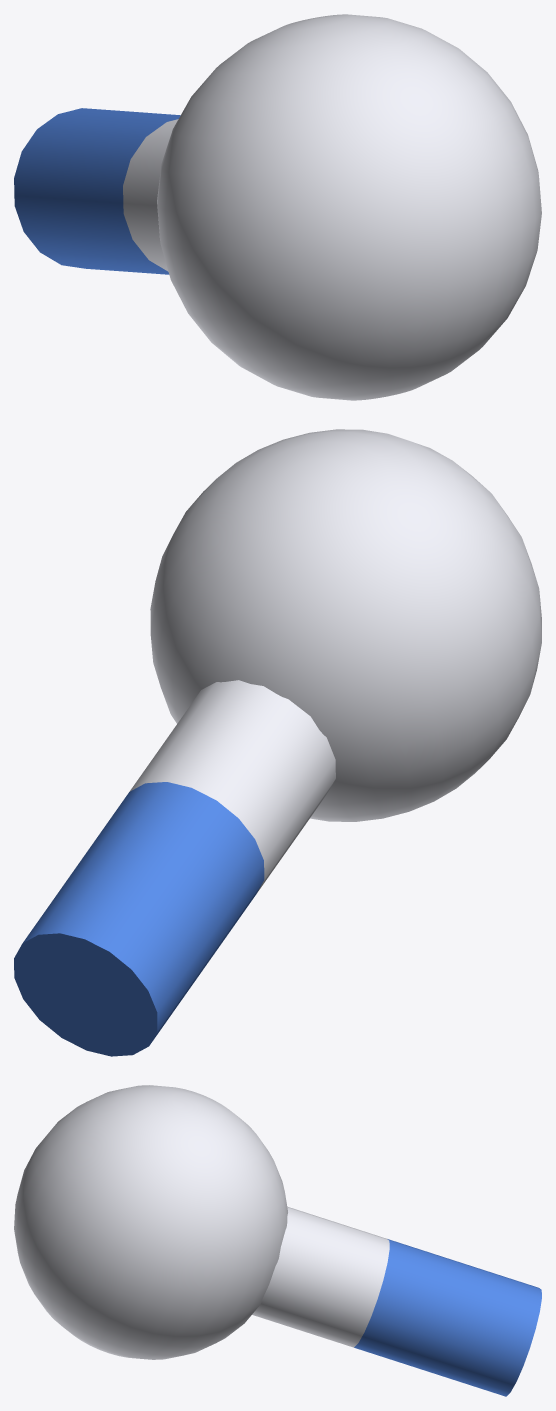
3 renders of one model, top to bottom at view 1: azimuth 30°, elevation 25°; view 2: azimuth 150°, elevation 25°; view 3: azimuth 270°, elevation 25°, orthographic. The views are drawn at different scales.
Visible parts, largest first — view 1: 对象006; view 2: 对象006; view 3: 对象006.
Boxes of the visible parts, x1,y1,x2,y2 form: 对象006: [14, 14, 541, 400]; 对象006: [14, 429, 541, 1056]; 对象006: [14, 1085, 541, 1396].
Bounding box in the file's own units: 12 × 14.16 × 23.03.
1 material, 1 textured.
